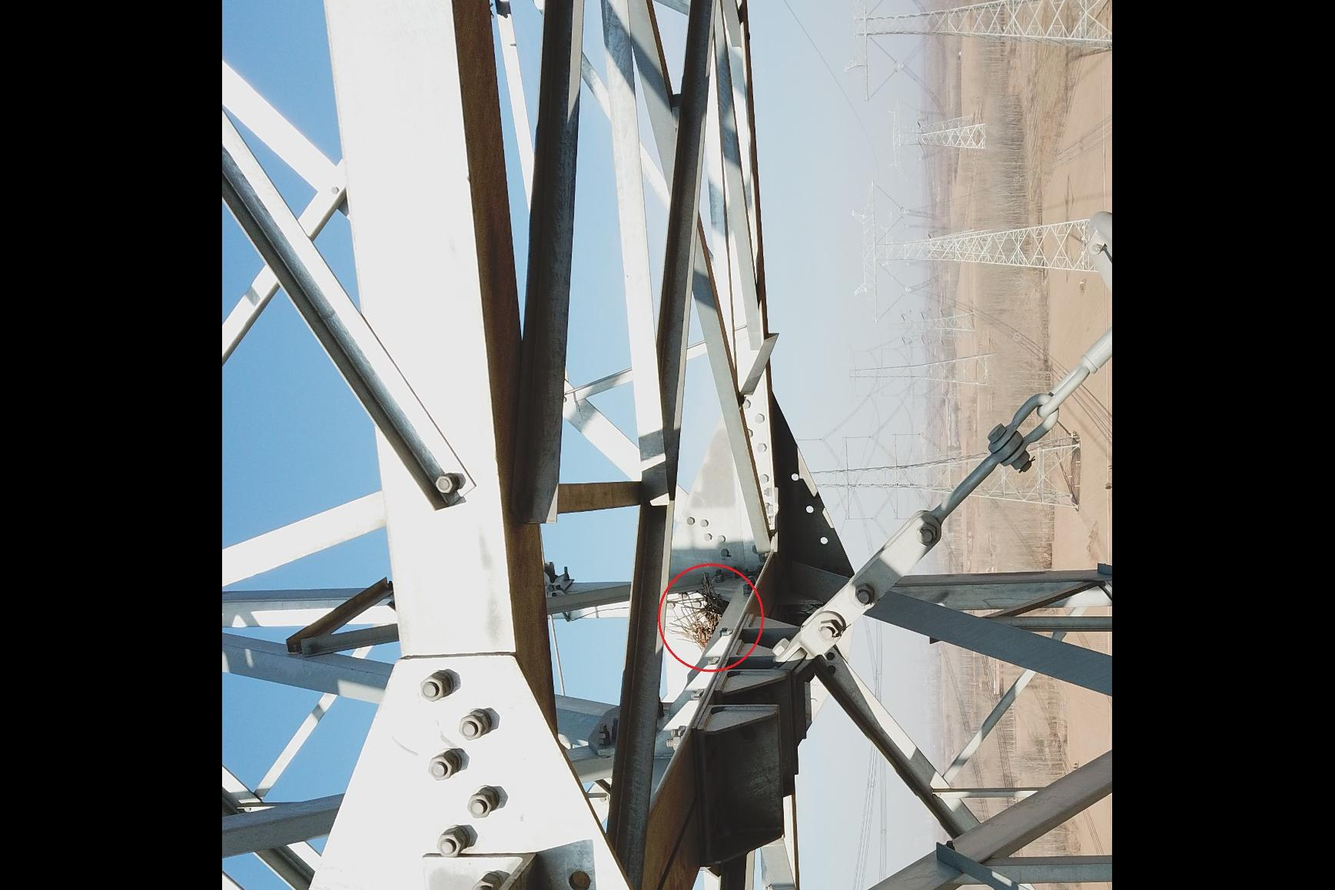nest: (666, 574, 736, 656)
